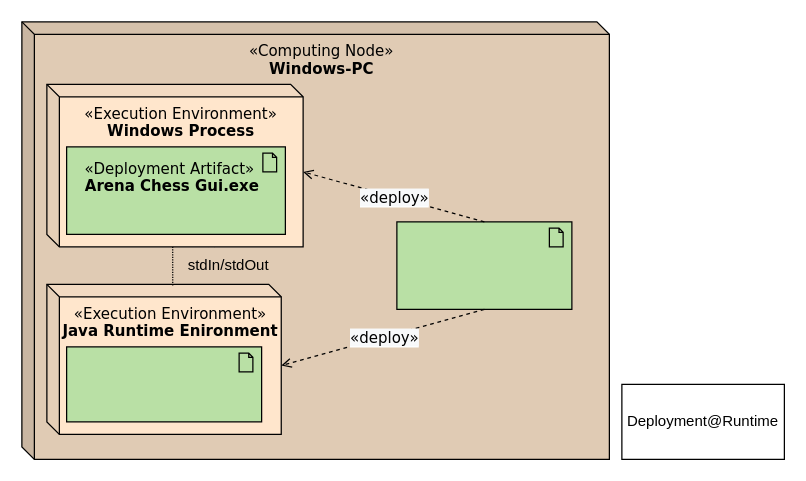
Image size: 806x481. Some labels were removed from this diagram. The centre of each missing label's shape, as x and y in pixels:
"«Deployment Artifact » dokchess.bat" goes at point 484,265.
"«Deployment Artifact » DokChess.jar" goes at point 163,384.
